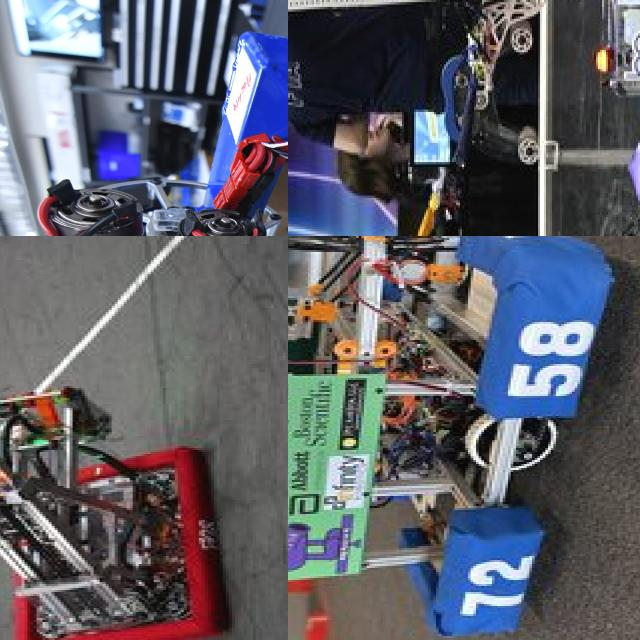FRC-Robots: (288, 236, 609, 634), (288, 0, 640, 207), (0, 360, 244, 640), (1, 0, 288, 236)
